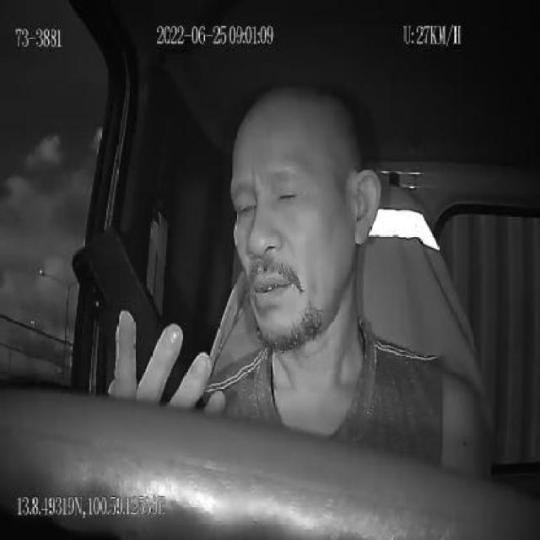phone: (71, 222, 206, 407)
